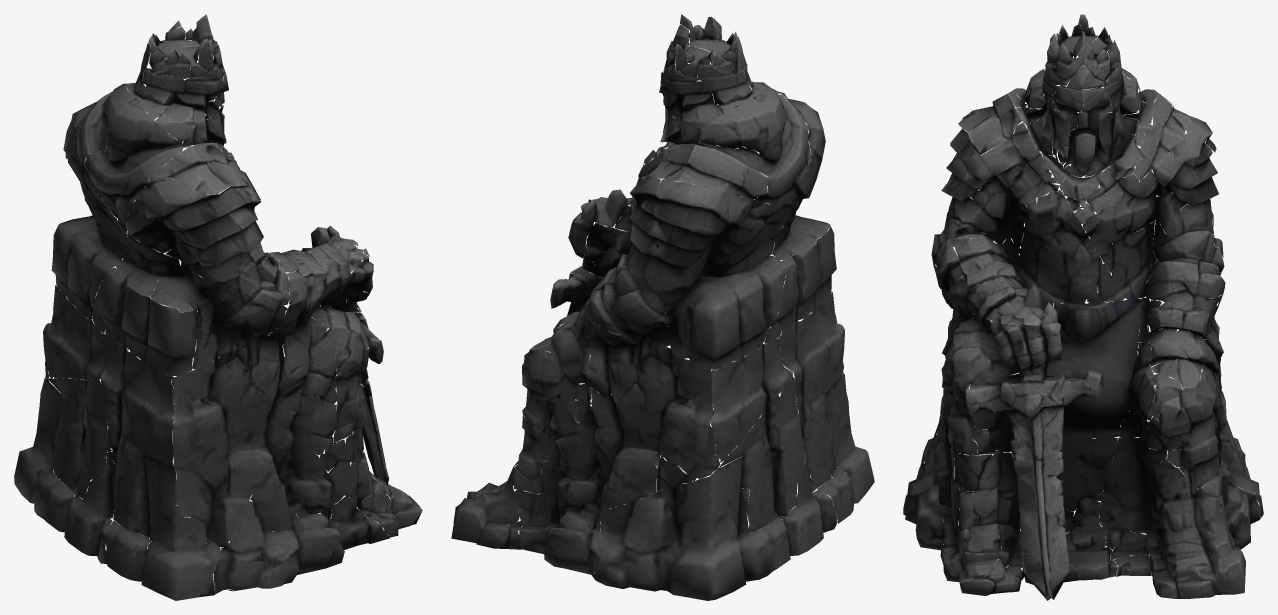
Rendered from warden-rank-render-12k.glb.
3 views of the same model, side by side, from view 1: azimuth 30°, elevation 25°; view 2: azimuth 150°, elevation 25°; view 3: azimuth 270°, elevation 25° (orthographic).
Visible parts, largest first — view 1: warden_DIRECT_LOD1; view 2: warden_DIRECT_LOD1; view 3: warden_DIRECT_LOD1.
Part boxes in pixels (x1=…): warden_DIRECT_LOD1: x1=14, y1=14, x2=422, y2=600; warden_DIRECT_LOD1: x1=451, y1=14, x2=874, y2=600; warden_DIRECT_LOD1: x1=903, y1=14, x2=1263, y2=600.
Size of the model in its own units: 6.19 by 10 by 6.65.
Materials: 1 (1 with a texture image).
